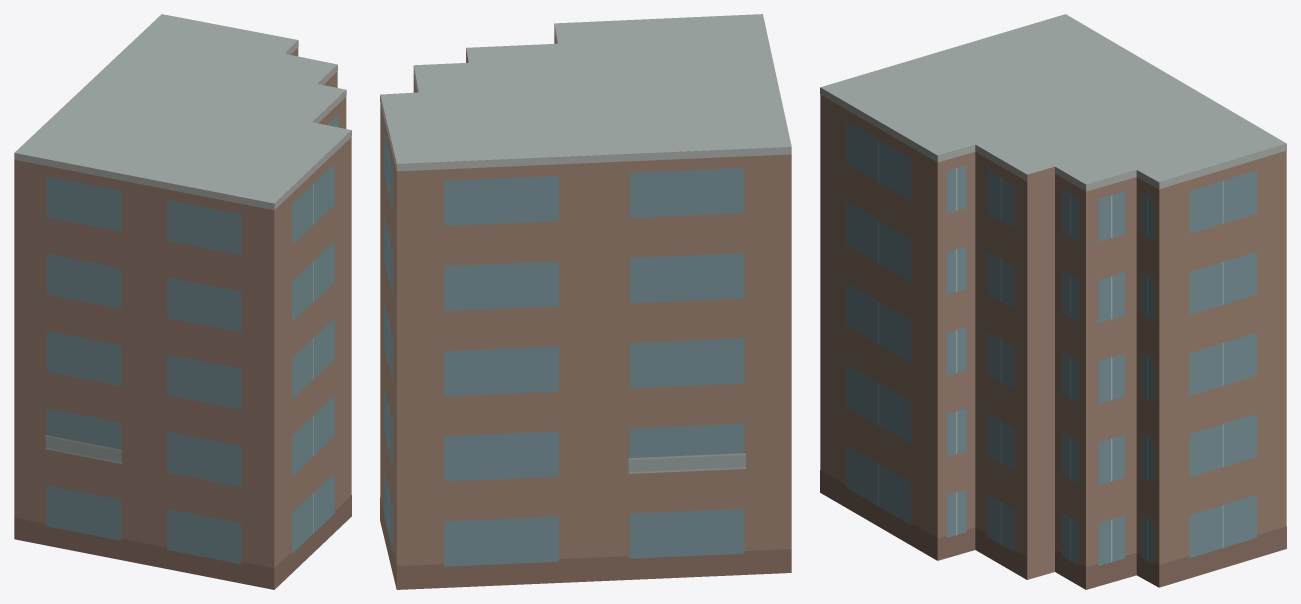
Rendered from survey-upis-32671418.glb.
3 renders of one model, left to right at view 1: azimuth 30°, elevation 25°; view 2: azimuth 150°, elevation 25°; view 3: azimuth 270°, elevation 25°, orthographic. The views are drawn at different scales.
Visible parts, largest first — view 1: survey-upis-32671418.tmp; view 2: survey-upis-32671418.tmp; view 3: survey-upis-32671418.tmp.
Boxes of the visible parts, x1,y1,x2,y2 form: survey-upis-32671418.tmp: (14,14,351,589); survey-upis-32671418.tmp: (380,14,791,589); survey-upis-32671418.tmp: (820,14,1286,589).
Size of the model in its own units: 12.64 by 14 by 14.62.
